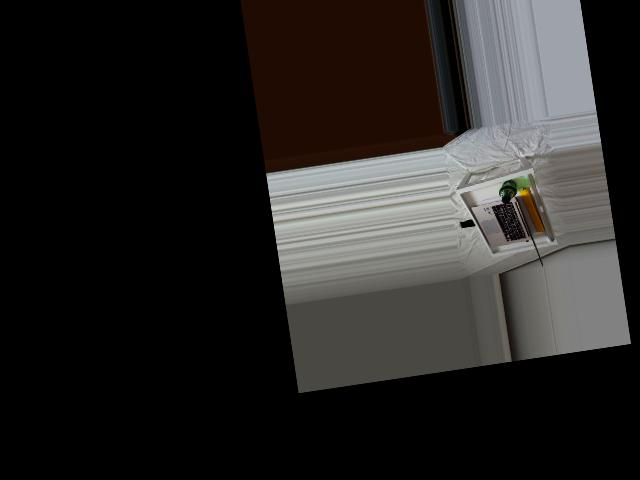beer: (497, 179, 519, 203)
